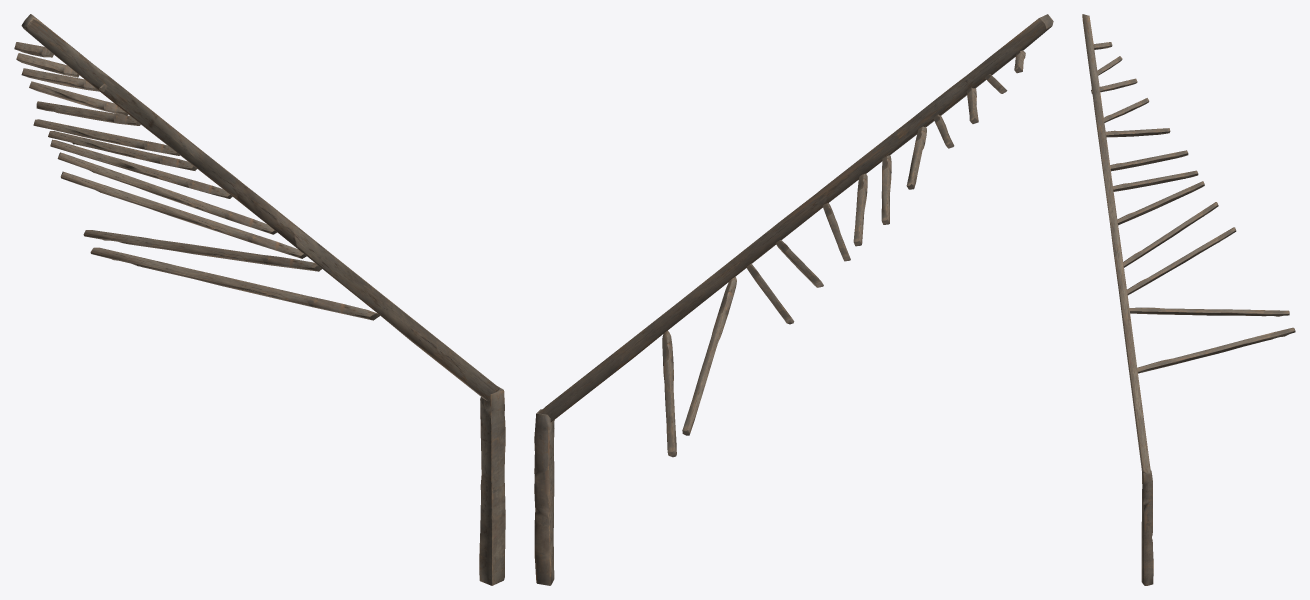
File: Tent_P_WoodenStand03.FBX
3 renders of one model, left to right at view 1: azimuth 30°, elevation 25°; view 2: azimuth 150°, elevation 25°; view 3: azimuth 270°, elevation 25°, orthographic. The views are drawn at different scales.
Visible parts, largest first — view 1: Tent_P_WoodenStand03; view 2: Tent_P_WoodenStand03; view 3: Tent_P_WoodenStand03.
Part boxes in pixels (x1,y1,x2,y2): Tent_P_WoodenStand03: (14, 14, 505, 585); Tent_P_WoodenStand03: (534, 14, 1053, 585); Tent_P_WoodenStand03: (1082, 14, 1295, 585).
Bounding box in the file's own units: 1321 × 1728 × 789.
